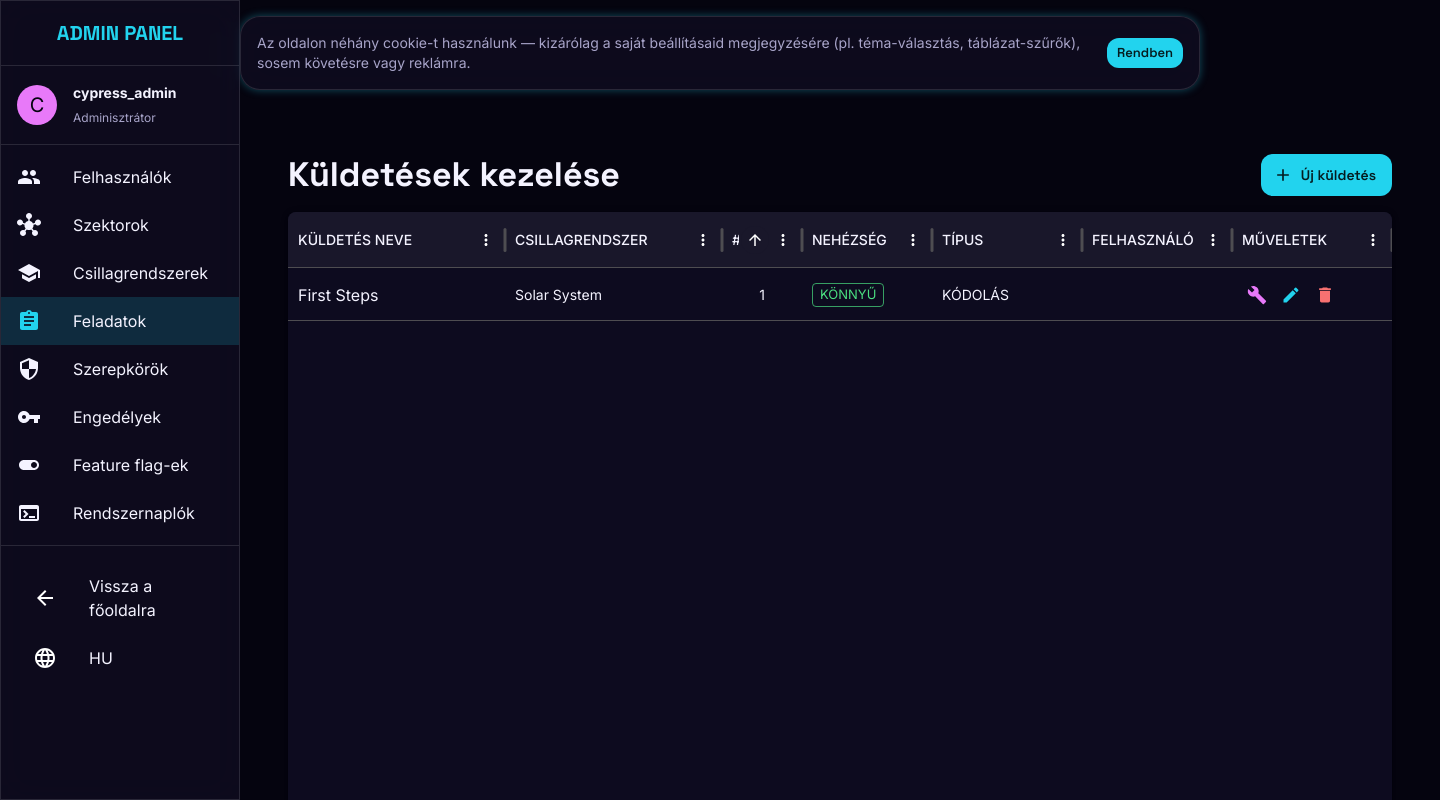
Admin Mission Management (Mocked Backend) › should delete a mission
Expected: the text "First Steps" is shown, [298,282,378,306]
Step 1. Click the button with test id "delete-mission-btn" → x=1325, y=295, box [1310,281,1340,309]
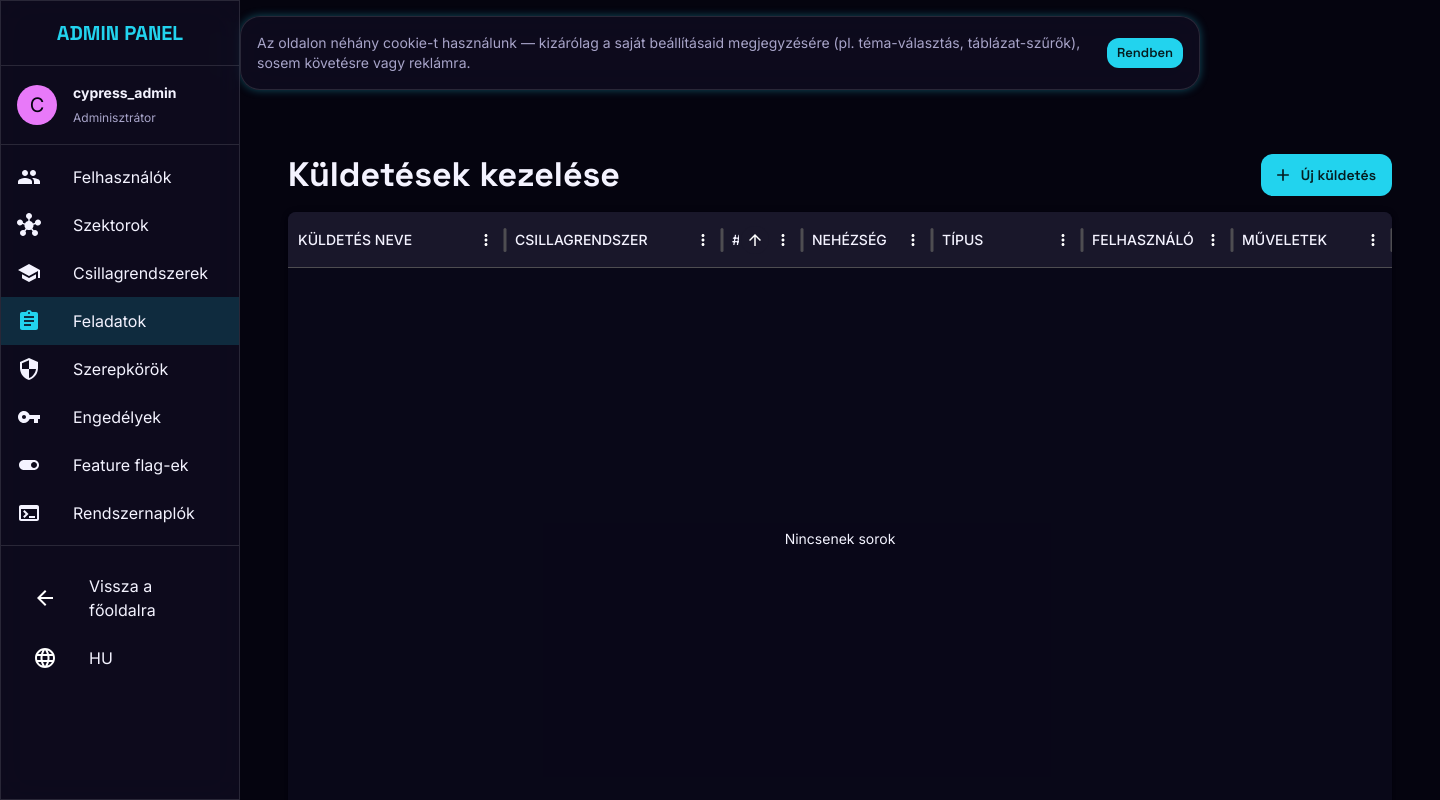
Expected: the text "First Steps" is gone
